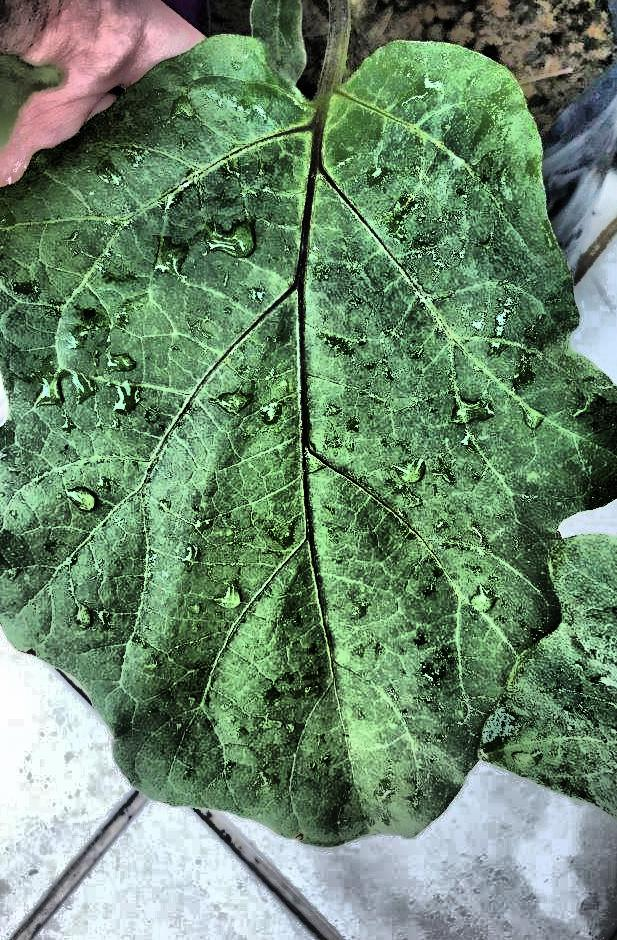HEALTHY: (30, 0, 617, 691)
